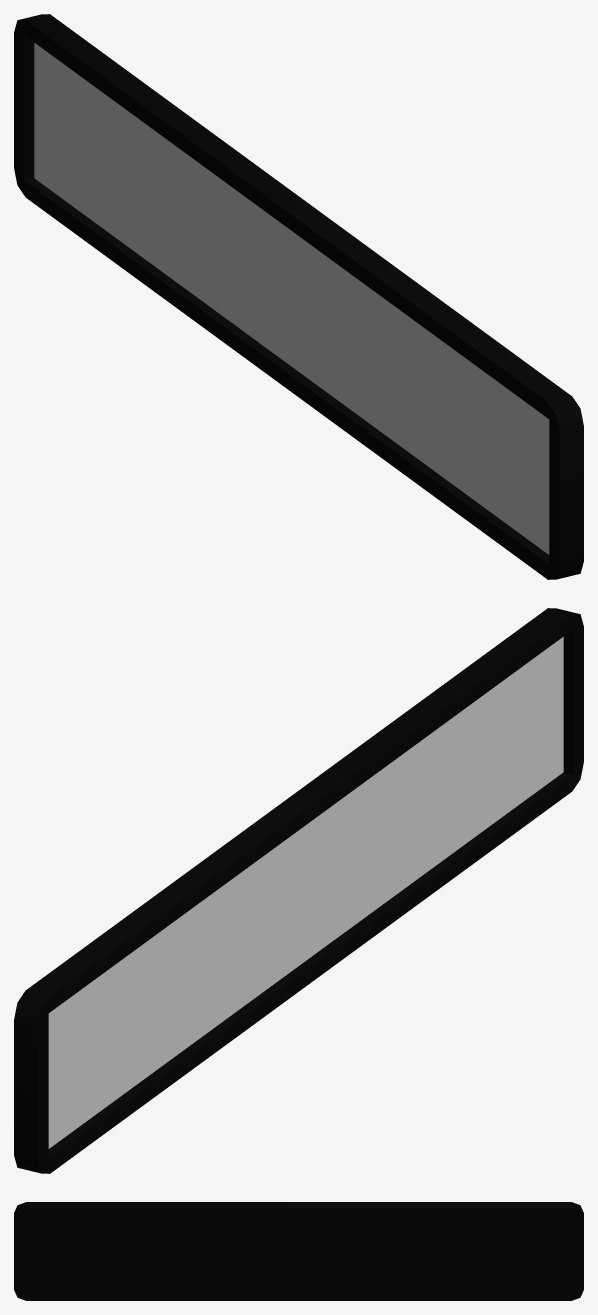
File: Hea_Player_Nametag_Wall.fbx
The picture shows the model from 3 angles, top to bottom: view 1: azimuth 30°, elevation 25°; view 2: azimuth 150°, elevation 25°; view 3: azimuth 270°, elevation 25°; orthographic projection. The views are drawn at different scales.
Visible parts, largest first — view 1: NameTag_Wall; view 2: NameTag_Wall; view 3: NameTag_Wall.
Boxes of the visible parts, <box> form: NameTag_Wall: <box>14,14,583,579</box>; NameTag_Wall: <box>14,608,583,1173</box>; NameTag_Wall: <box>14,1202,583,1300</box>.
Size of the model in its own units: 2.63 by 18.27 by 102.
